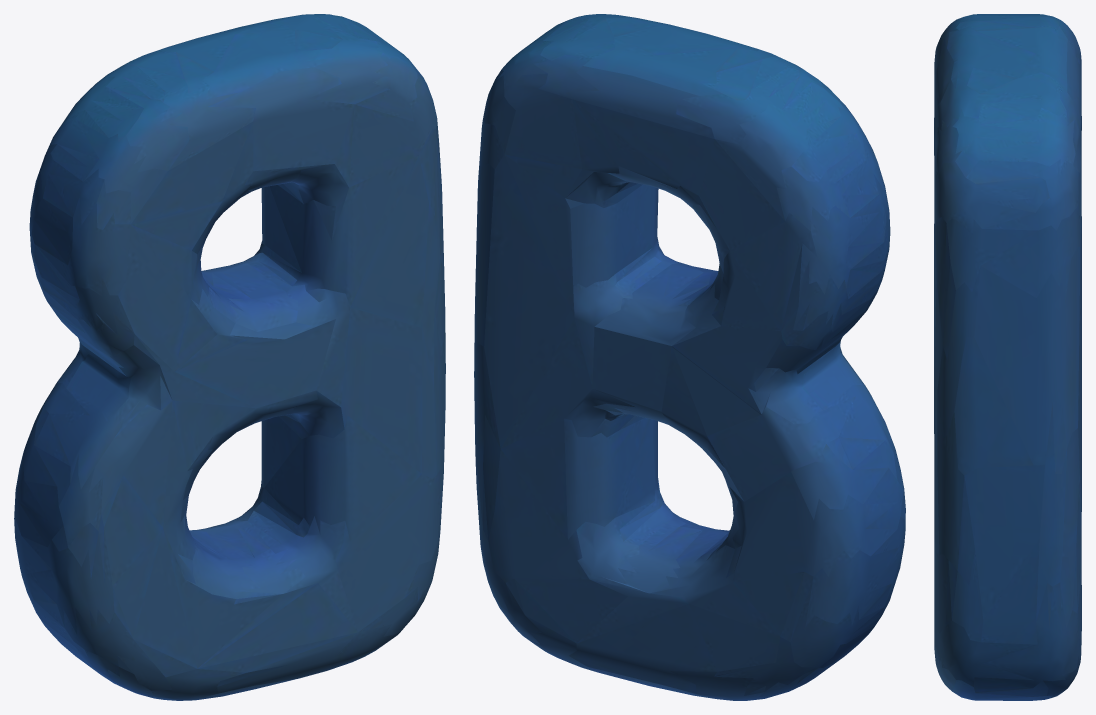
Rendered from letterB.6783674a.glb.
3 renders of one model, left to right at view 1: azimuth 30°, elevation 25°; view 2: azimuth 150°, elevation 25°; view 3: azimuth 270°, elevation 25°, orthographic. The views are drawn at different scales.
Parts seen in each view (by area): view 1: output_unwrapped; view 2: output_unwrapped; view 3: output_unwrapped.
Boxes of the visible parts, box(x1,y1,x2,y2) form: output_unwrapped: box(14, 14, 445, 700); output_unwrapped: box(474, 14, 905, 700); output_unwrapped: box(934, 14, 1081, 700).
Size of the model in its own units: 1.24 by 1.9 by 0.419.
Materials: 1 (1 with a texture image).
